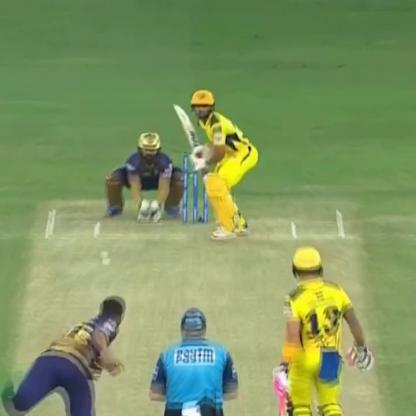ball: (97, 247, 109, 259), (100, 255, 113, 266)
bat: (165, 92, 213, 173)
pitch: (20, 202, 378, 415)
